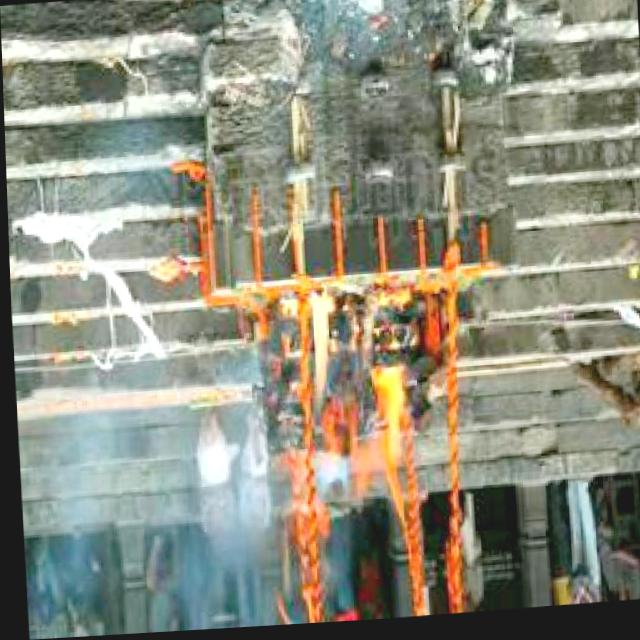Fire: (288, 281, 411, 515)
